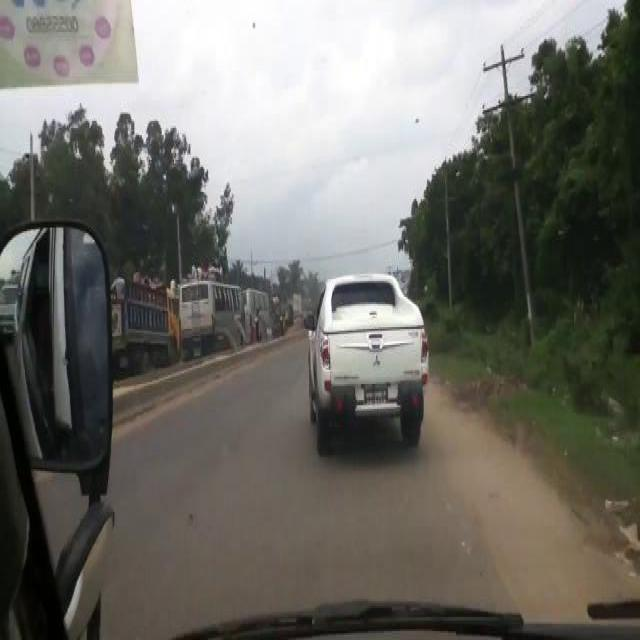bus: (176, 275, 244, 358)
suv: (302, 268, 430, 457)
truck: (109, 277, 179, 373)
